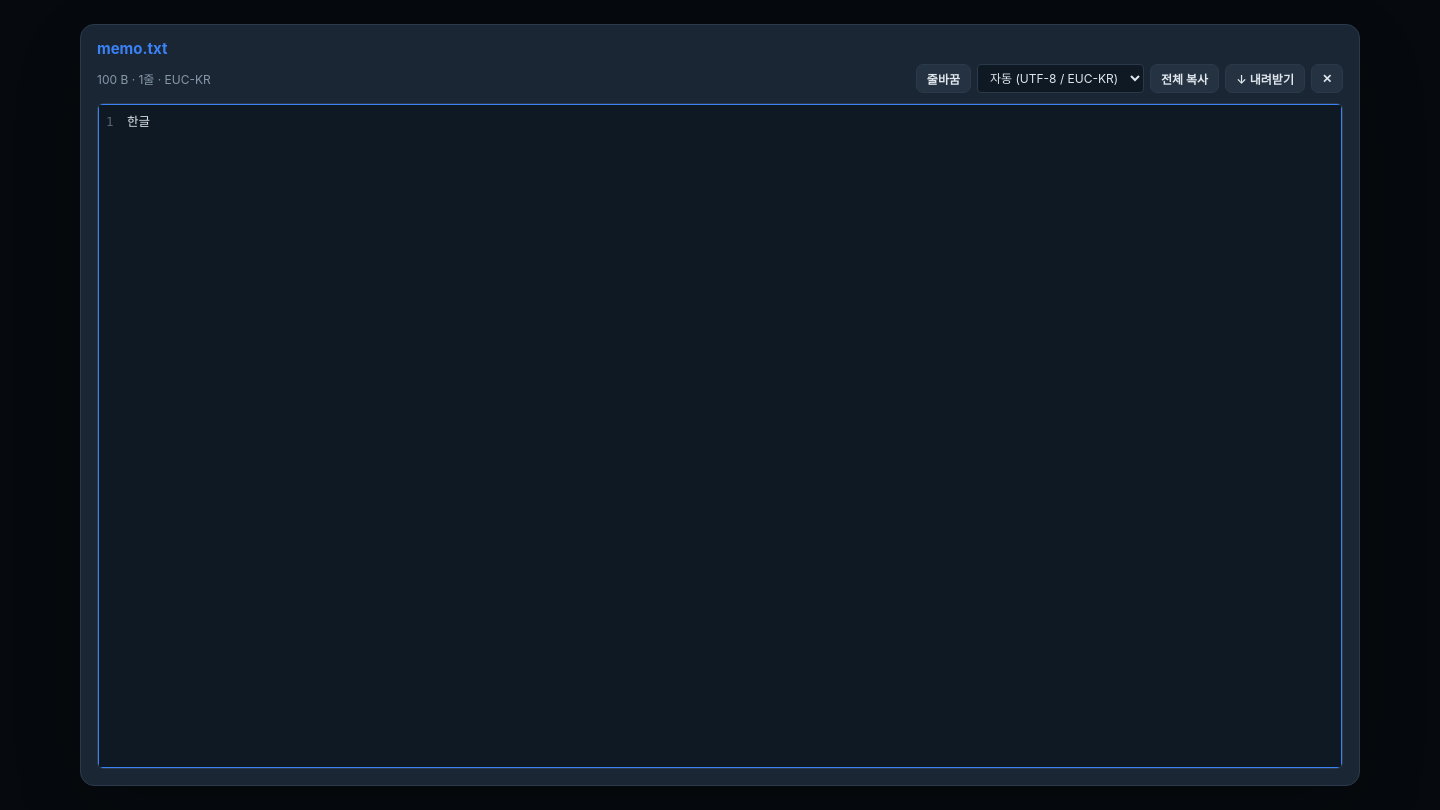
a legacy Korean file is read as EUC-KR, and the encoding can be chosen
Expected: the text "한글" is shown, [127, 114, 150, 129]
Expected: the text "100 B · 1줄 · EUC-KR" is shown, [97, 70, 211, 87]
Select "ISO-8859-1" in the dropdown named "문자 인코딩" at (1060, 78), box [977, 64, 1144, 93]
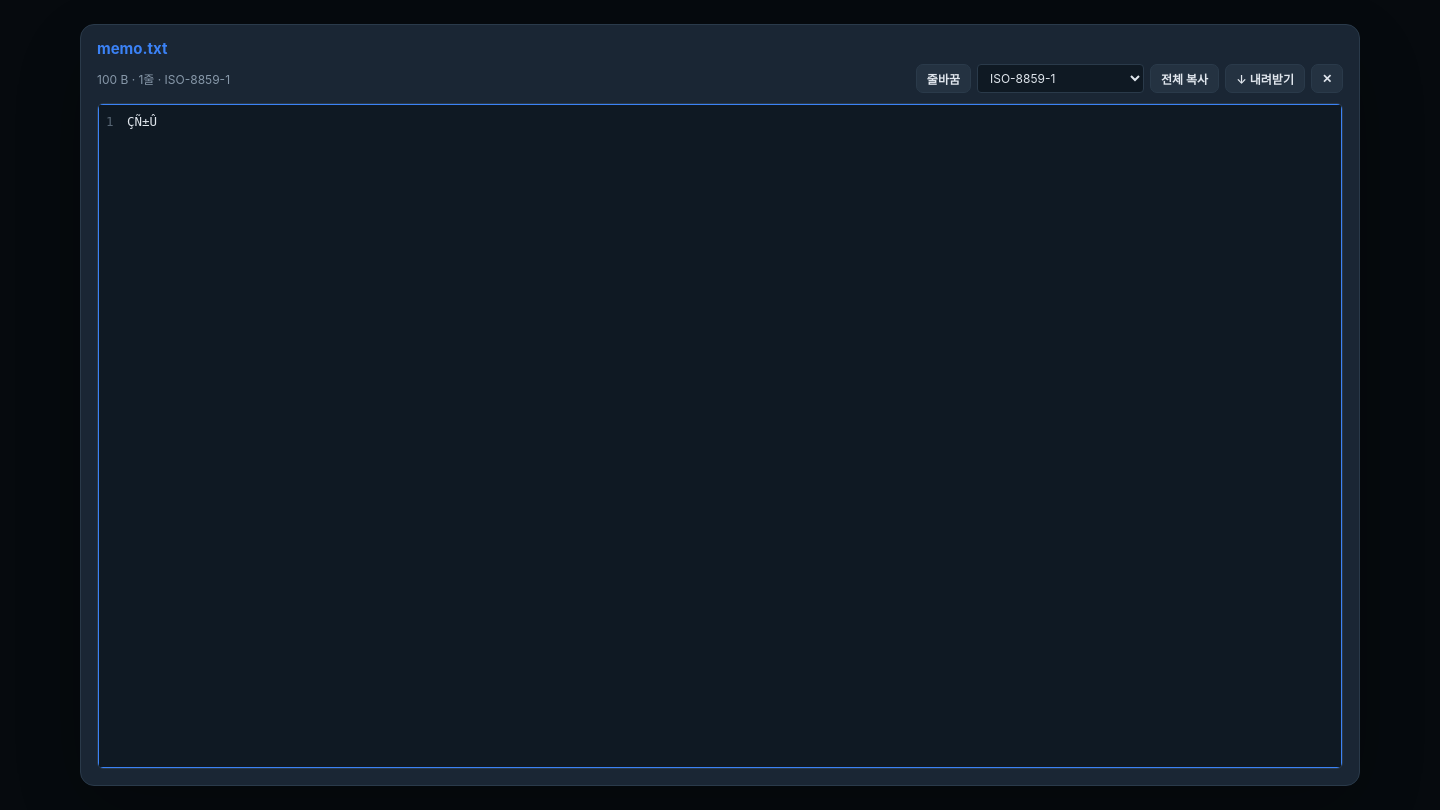
Expected: the text "한글" is gone
